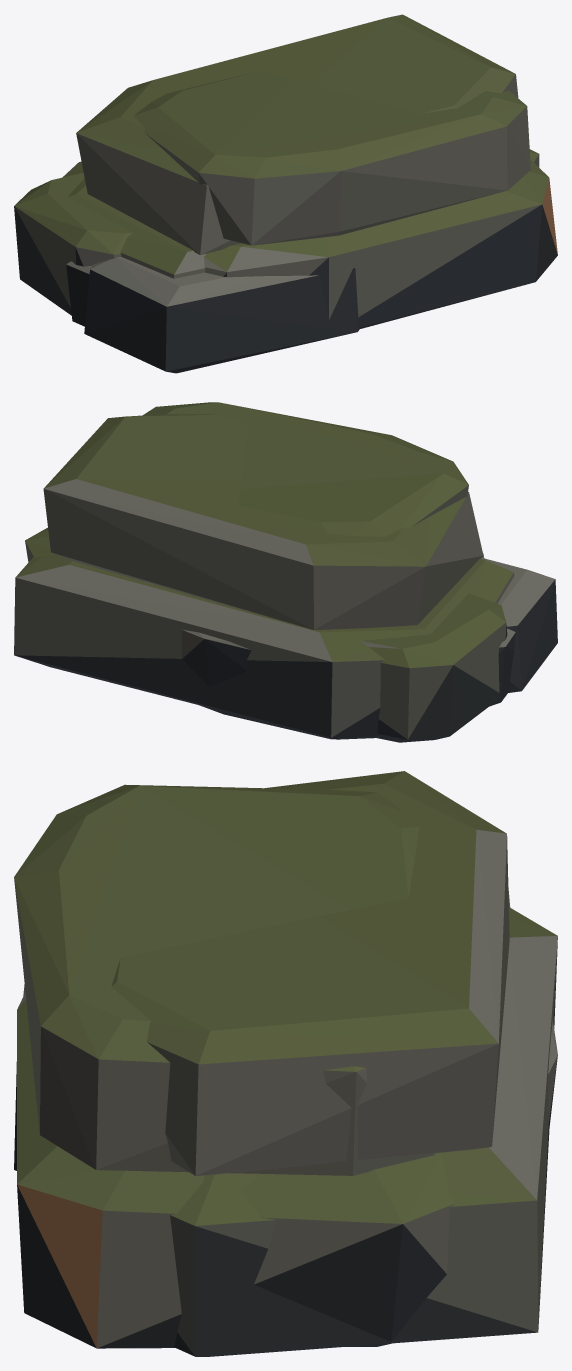
Rendered from rock_river_ledge_a.glb.
3 views of the same model, one above another, from view 1: azimuth 30°, elevation 25°; view 2: azimuth 150°, elevation 25°; view 3: azimuth 270°, elevation 25° (orthographic). The views are drawn at different scales.
Visible parts, largest first — view 1: rock_river_ledge_a_LOD0_stone, rock_river_ledge_a_LOD1_stone; view 2: rock_river_ledge_a_LOD1_stone, rock_river_ledge_a_LOD0_stone; view 3: rock_river_ledge_a_LOD1_stone, rock_river_ledge_a_LOD0_stone.
Boxes of the visible parts, x1=… form: rock_river_ledge_a_LOD0_stone: x1=14, y1=70, x2=557, y2=328; rock_river_ledge_a_LOD1_stone: x1=62, y1=14, x2=539, y2=373; rock_river_ledge_a_LOD1_stone: x1=14, y1=414, x2=557, y2=737; rock_river_ledge_a_LOD0_stone: x1=25, y1=402, x2=507, y2=742; rock_river_ledge_a_LOD1_stone: x1=14, y1=771, x2=557, y2=1356; rock_river_ledge_a_LOD0_stone: x1=14, y1=784, x2=557, y2=1348.
Size of the model in its own units: 2.3 by 0.9119 by 1.44.
